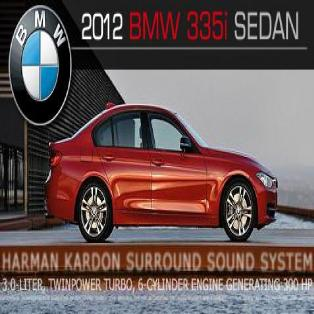Auto: (43, 100, 280, 242)
